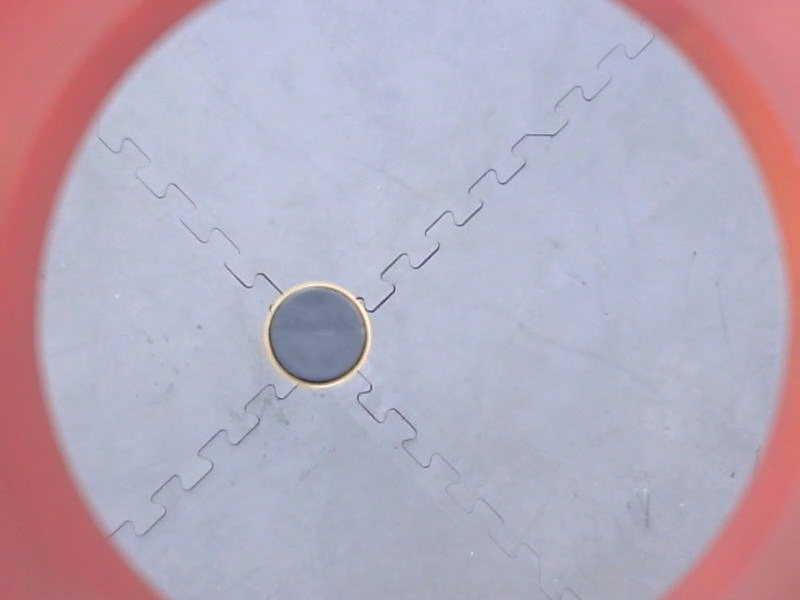tip: (257, 276, 379, 393)
